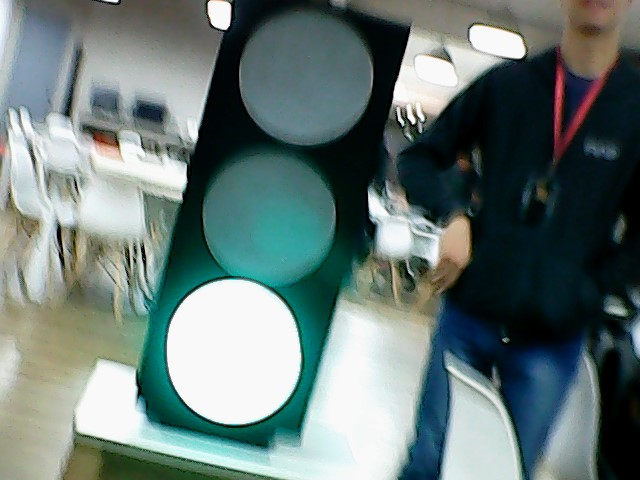verde: (124, 1, 421, 460)
